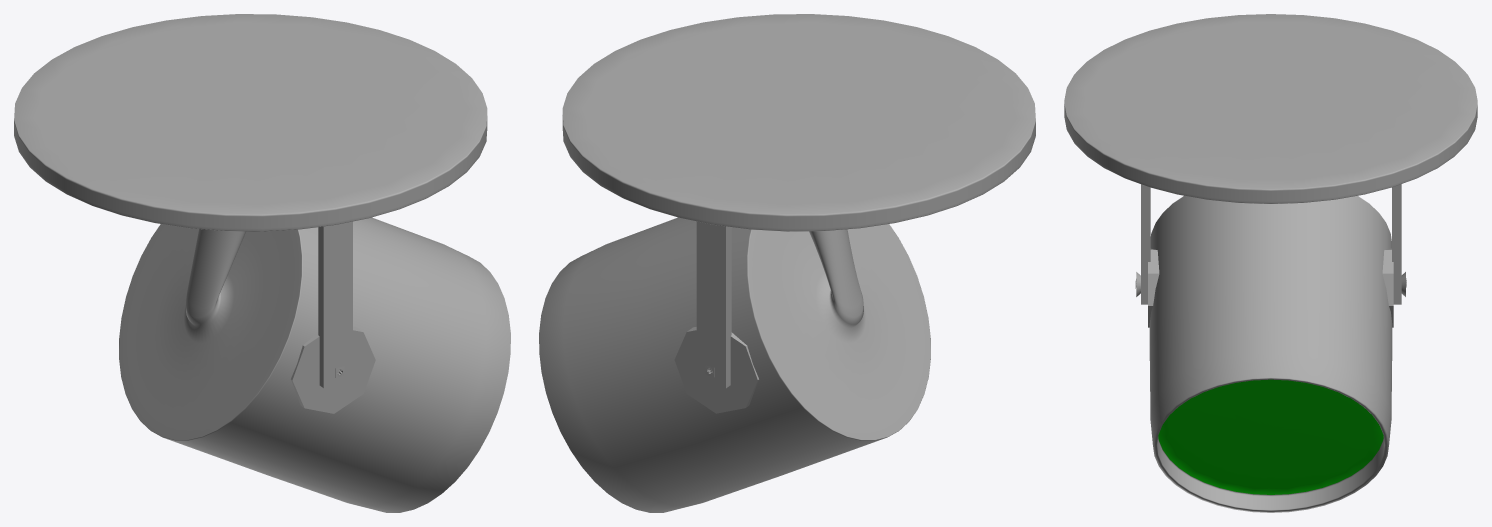
Rendered from SpotLight.fbx.
3 renders of one model, left to right at view 1: azimuth 30°, elevation 25°; view 2: azimuth 150°, elevation 25°; view 3: azimuth 270°, elevation 25°, orthographic. The views are drawn at different scales.
Visible parts, largest first — view 1: pCube6; view 2: pCube6; view 3: pCube6.
Part boxes in pixels (x1,y1,x2,y2): pCube6: [14, 14, 510, 512]; pCube6: [539, 14, 1035, 512]; pCube6: [1064, 14, 1477, 512].
Size of the model in its own units: 3.57 by 3.28 by 3.37.
